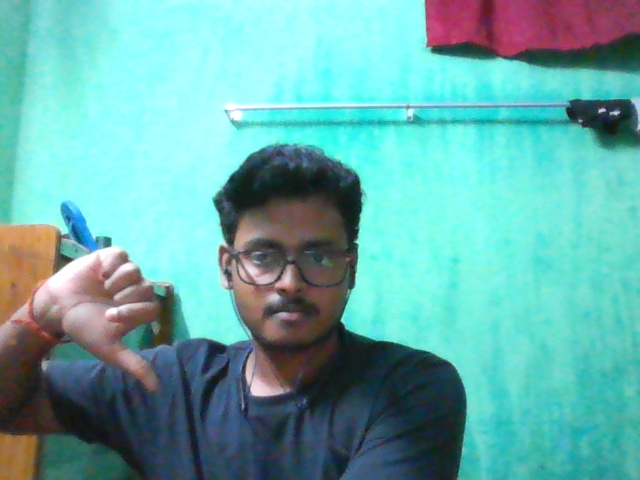ThumbsDown: (35, 242, 163, 394)
